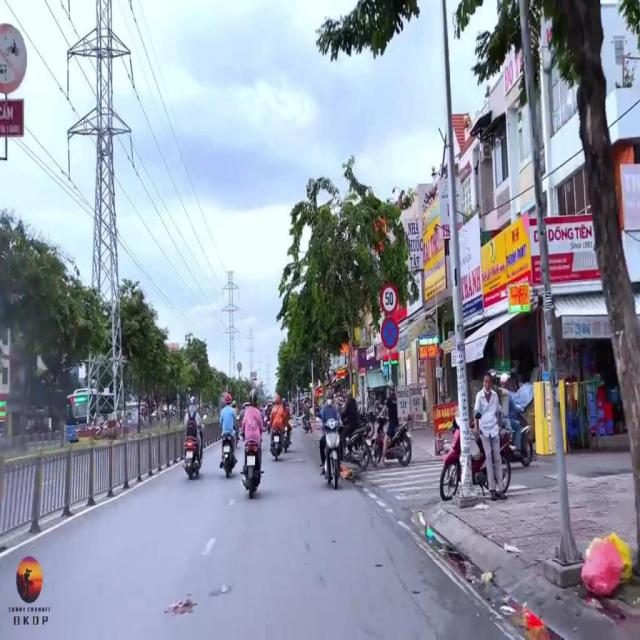cam_dung_xe_va_do_xe: (381, 316, 399, 349)
cam_xe_2_banh_va_xe_3_banh_co_dong_co: (0, 22, 27, 94)
toc_do_toi_da_50: (381, 283, 398, 317)
